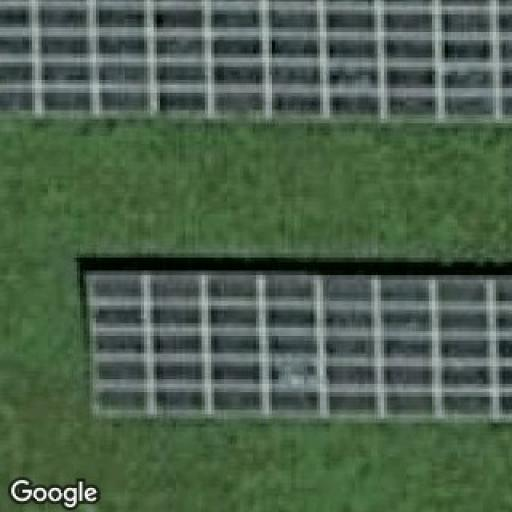solar-panel: (88, 272, 512, 421), (0, 0, 512, 123)
